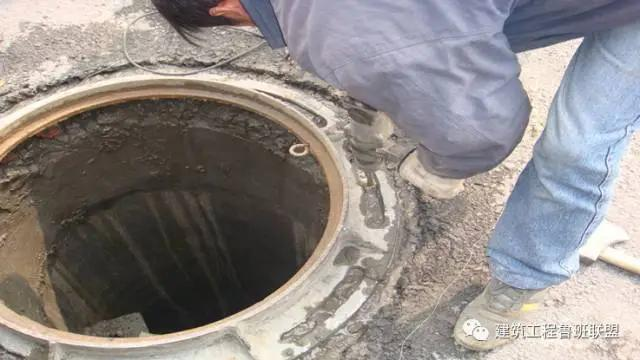wellcover: (0, 81, 401, 358)
